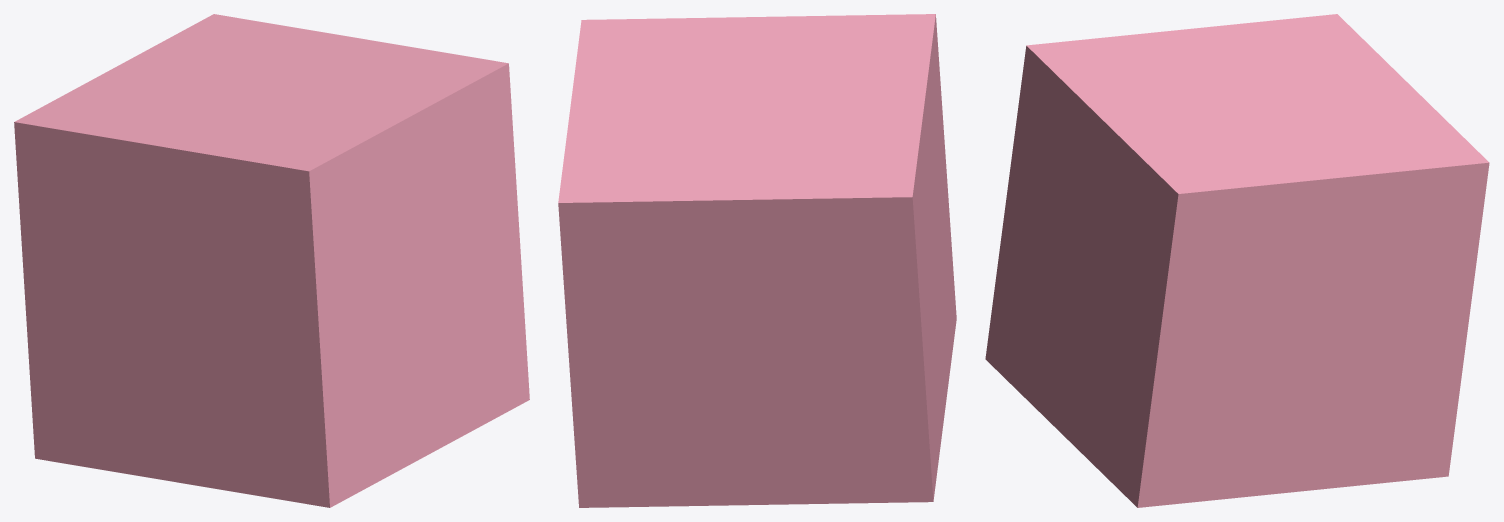
The picture shows the model from 3 angles, left to right: view 1: azimuth 30°, elevation 25°; view 2: azimuth 150°, elevation 25°; view 3: azimuth 270°, elevation 25°; orthographic projection. The views are drawn at different scales.
Visible parts, largest first — view 1: node_id4; view 2: node_id4; view 3: node_id4.
Part boxes in pixels (<box>): node_id4: <box>14,14,529,507</box>; node_id4: <box>558,14,956,507</box>; node_id4: <box>985,14,1489,507</box>.
Size of the model in its own units: 0.6849 by 0.5888 by 0.7402.
1 material, 1 textured.
